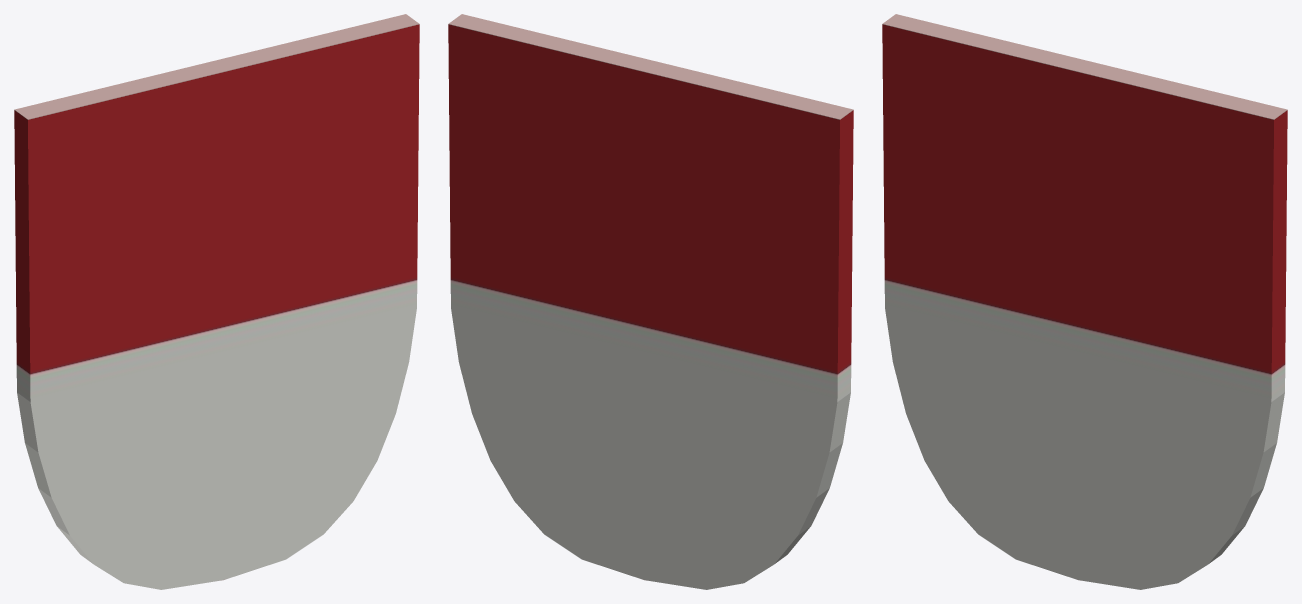
Rendered from stemma-donati.glb.
The picture shows the model from 3 angles, left to right: view 1: azimuth 30°, elevation 25°; view 2: azimuth 150°, elevation 25°; view 3: azimuth 330°, elevation 25°; orthographic projection.
Visible parts, largest first — view 1: stemma-donati; view 2: stemma-donati; view 3: stemma-donati.
Boxes of the visible parts, left/top/right/bottom form: stemma-donati: left=14, top=14, right=419, bottom=589; stemma-donati: left=448, top=14, right=853, bottom=589; stemma-donati: left=882, top=14, right=1287, bottom=589.
Size of the model in its own units: 0.5 by 0.62 by 0.03.
1 material, 1 textured.
